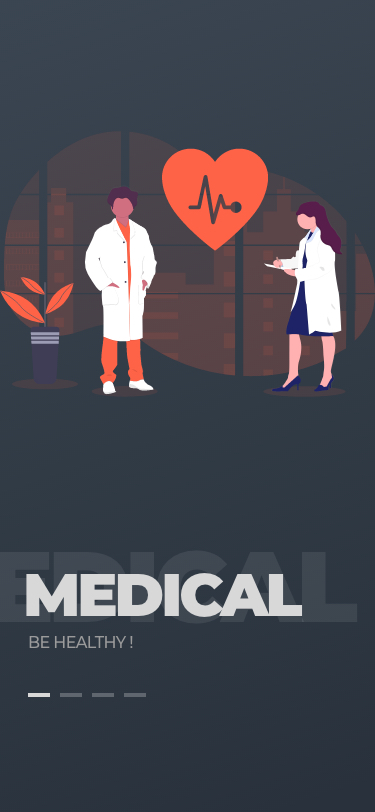Image: (1, 131, 375, 398)
PageIndicator: (28, 692, 147, 698)
Text: (26, 574, 303, 617), (29, 635, 134, 649)
